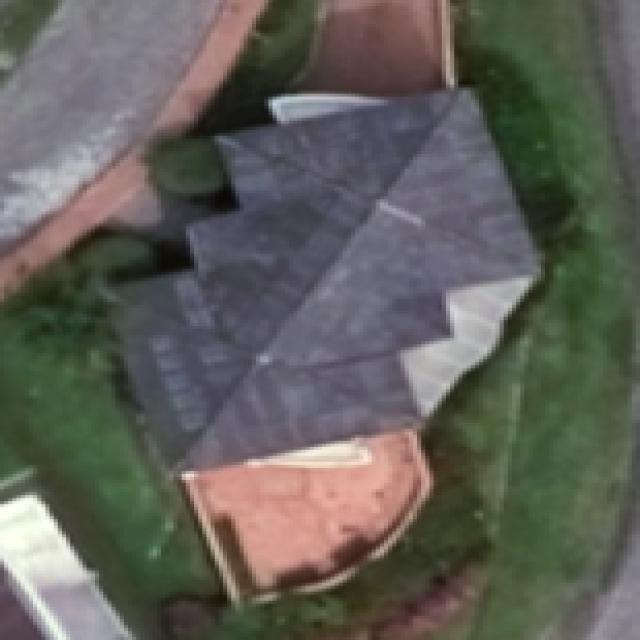Batiment: (120, 90, 539, 602)
